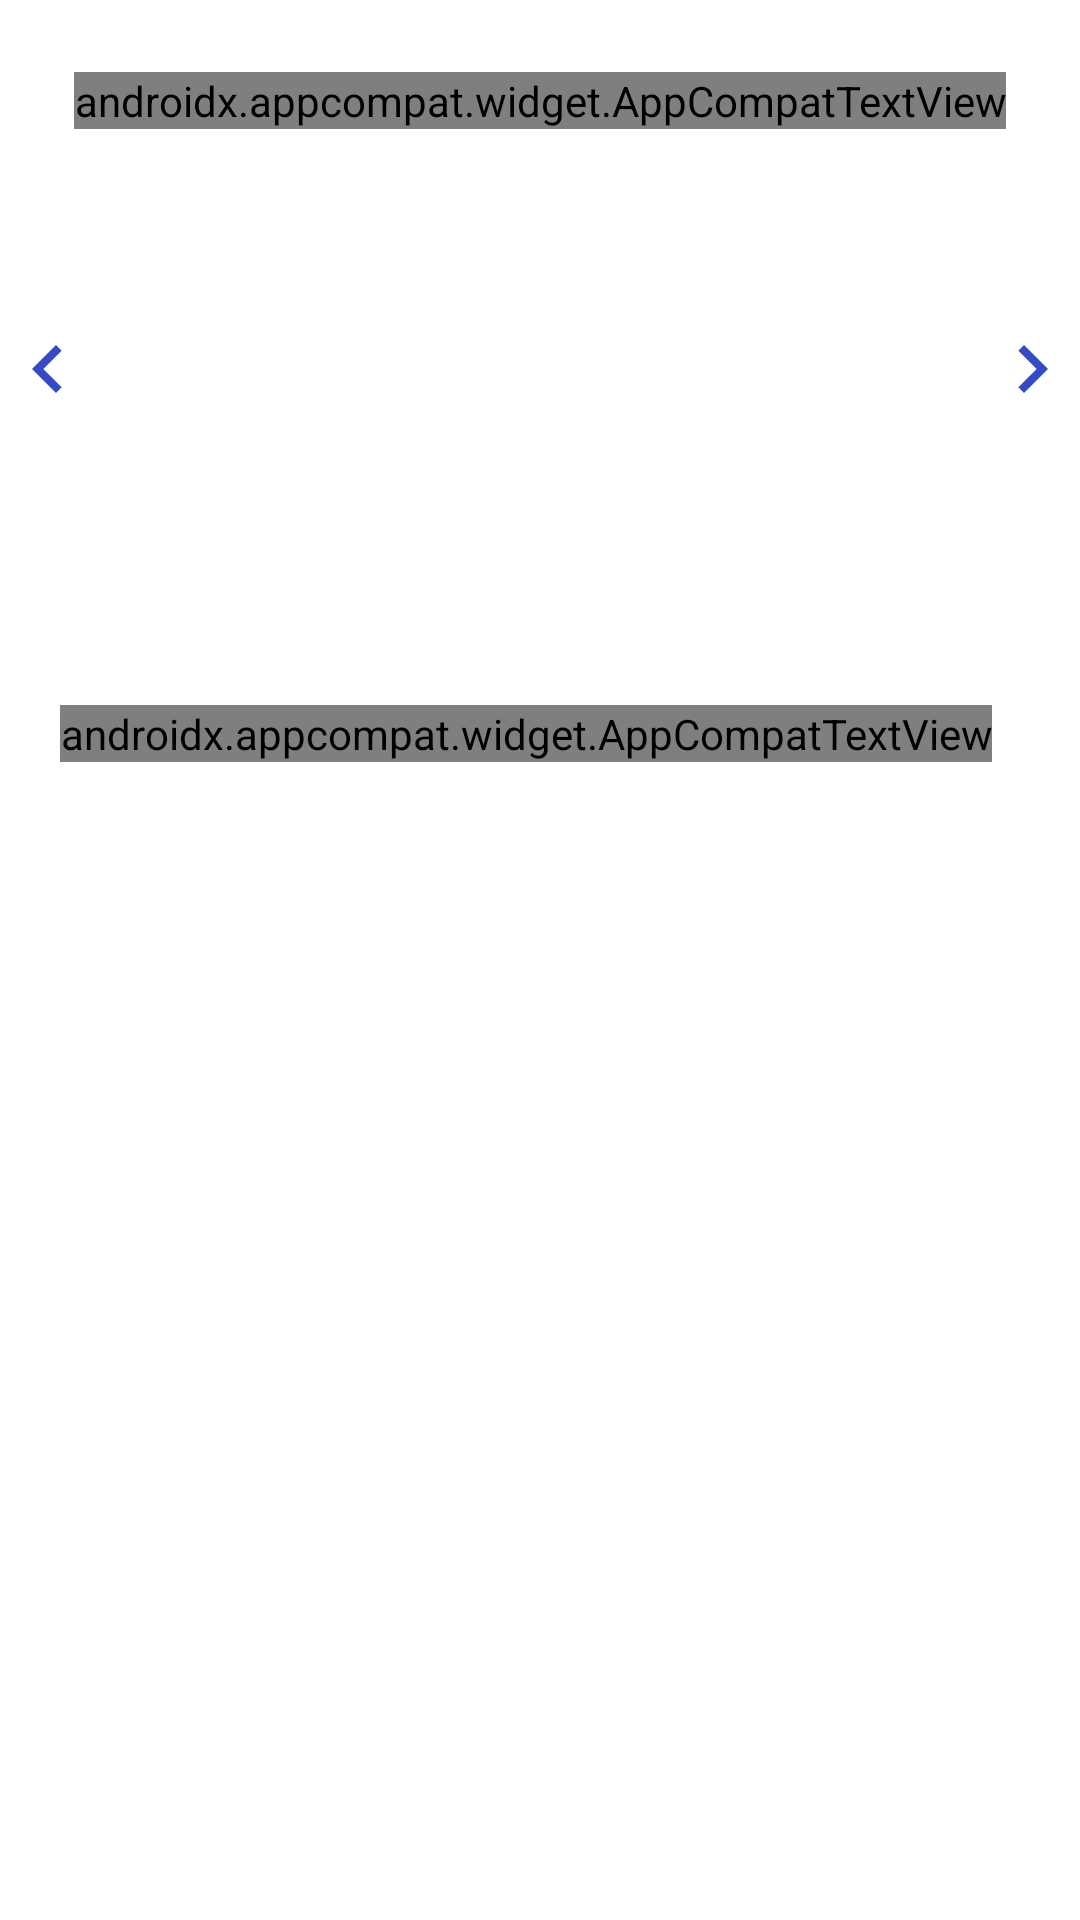

Locate icon controls on the screen. Image size 1080×1920, boxes as bbox=(x1, y1, x2, y2).
chevron left: bbox=(32, 345, 62, 393)
chevron right: bbox=(1018, 345, 1048, 393)
